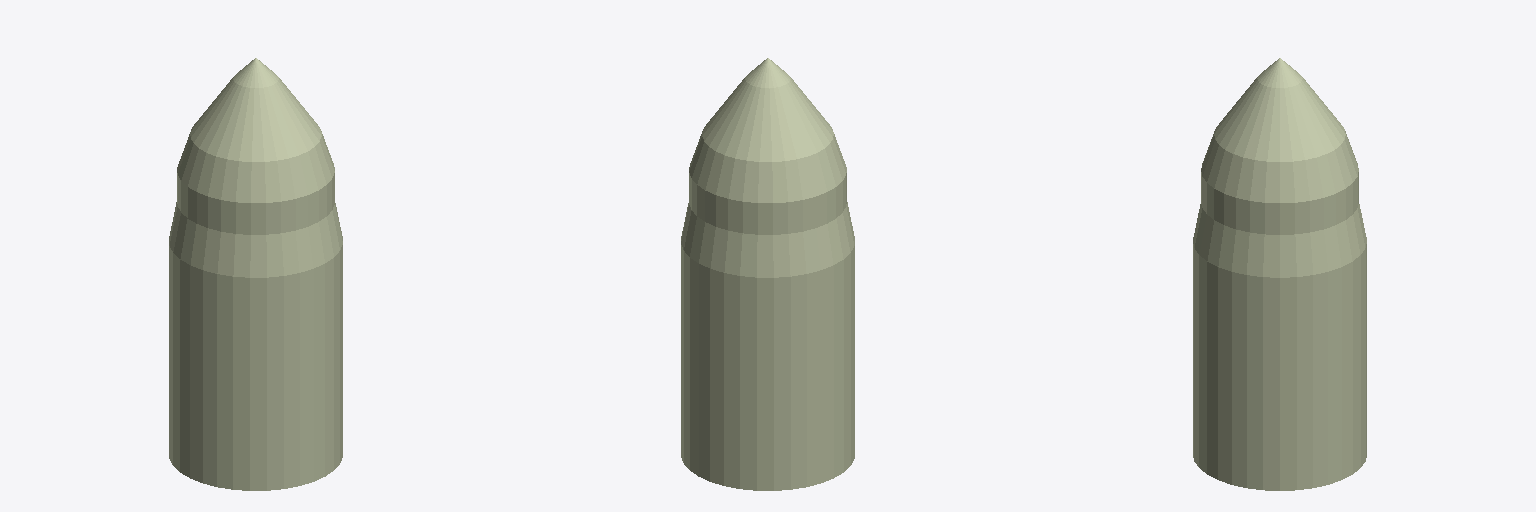
File: soyuz_Thruster_Top.obj
The picture shows the model from 3 angles: view 1: azimuth 30°, elevation 25°; view 2: azimuth 150°, elevation 25°; view 3: azimuth 270°, elevation 25°; orthographic projection.
Parts seen in each view (by area): view 1: Cylinder2_extract2; view 2: Cylinder2_extract2; view 3: Cylinder2_extract2.
Boxes of the visible parts, x1=… form: Cylinder2_extract2: x1=169, y1=58, x2=342, y2=490; Cylinder2_extract2: x1=681, y1=58, x2=854, y2=490; Cylinder2_extract2: x1=1193, y1=58, x2=1366, y2=490.
Bounding box in the file's own units: 11.87 × 29.76 × 11.87.